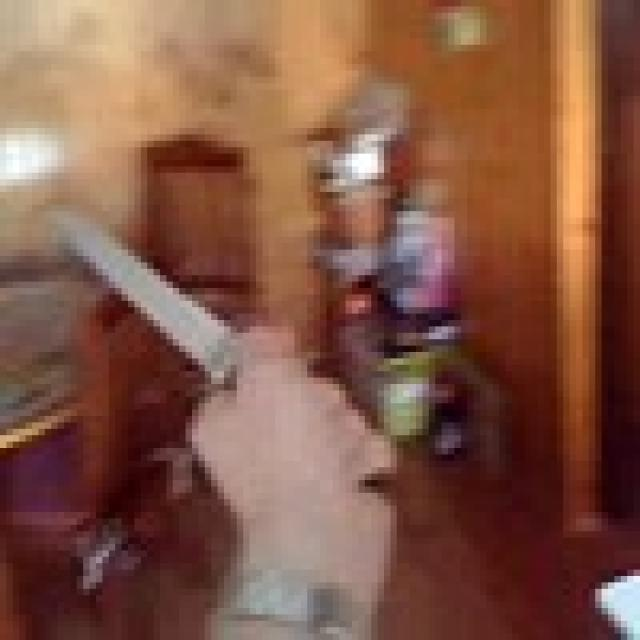Knife: (44, 204, 250, 410)
